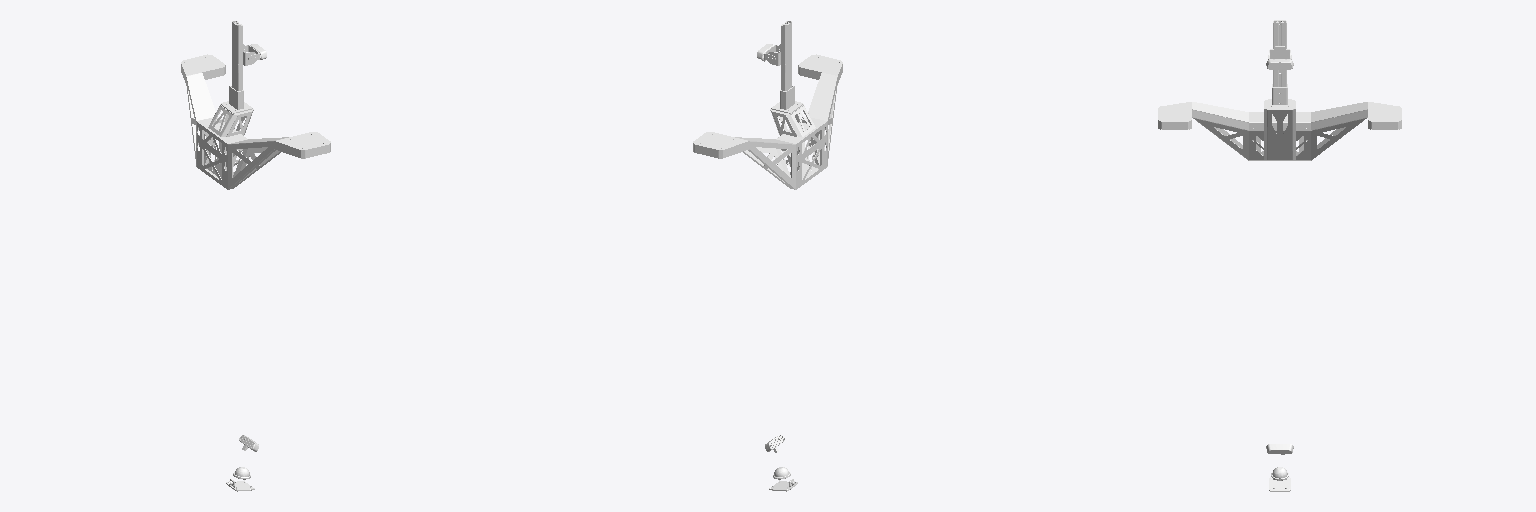
robot.urdf — split_aloha_mid_360:
<?xml version="1.0" encoding="utf-8"?>
<!-- This URDF was automatically created by SolidWorks to URDF Exporter! Originally created by [author] ([email redacted]) 
     Commit Version: 1.6.0-4-g7f85cfe  Build Version: 1.6.7995.38578
     For more information, please see http://wiki.ros.org/sw_urdf_exporter -->
<robot
  name="split_aloha_mid_360">
  <link
    name="base_link">
    <inertial>
      <origin
        xyz="-0.0094101 -8.3424E-05 -0.10022"
        rpy="0 0 0" />
      <mass
        value="62.935" />
      <inertia
        ixx="0.93227"
        ixy="-3.7072E-06"
        ixz="3.995E-05"
        iyy="1.2983"
        iyz="-0.00014259"
        izz="2.016" />
    </inertial>
    <visual>
      <origin
        xyz="0 0 0"
        rpy="0 0 0" />
      <geometry>
        <mesh
          filename="package://split_aloha_mid_360/meshes/base_link.STL" />
      </geometry>
      <material
        name="">
        <color
          rgba="1 1 1 1" />
      </material>
    </visual>
    <collision>
      <origin
        xyz="0 0 0"
        rpy="0 0 0" />
      <geometry>
        <mesh
          filename="package://split_aloha_mid_360/meshes/base_link.STL" />
      </geometry>
    </collision>
  </link>
  <link
    name="box_link">
    <inertial>
      <origin
        xyz="0.10921 -0.0087718 0.52779"
        rpy="0 0 0" />
      <mass
        value="27.261" />
      <inertia
        ixx="1.8122"
        ixy="4.558E-05"
        ixz="0.014722"
        iyy="1.7779"
        iyz="-4.0693E-05"
        izz="0.28053" />
    </inertial>
    <visual>
      <origin
        xyz="0 0 0"
        rpy="0 0 0" />
      <geometry>
        <mesh
          filename="package://split_aloha_mid_360/meshes/box_link.STL" />
      </geometry>
      <material
        name="">
        <color
          rgba="1 1 1 1" />
      </material>
    </visual>
    <collision>
      <origin
        xyz="0 0 0"
        rpy="0 0 0" />
      <geometry>
        <mesh
          filename="package://split_aloha_mid_360/meshes/box_link.STL" />
      </geometry>
    </collision>
  </link>
  <joint
    name="box_joint"
    type="fixed">
    <origin
      xyz="0 0 0"
      rpy="0 0 0" />
    <parent
      link="base_link" />
    <child
      link="box_link" />
    <axis
      xyz="0 0 0" />
  </joint>
  <link
    name="front_camera_link">
    <inertial>
      <origin
        xyz="-0.011443 0.0003607 -0.0012124"
        rpy="0 0 0" />
      <mass
        value="0.020053" />
      <inertia
        ixx="1.1182E-05"
        ixy="2.589E-09"
        ixz="5.6552E-08"
        iyy="2.2729E-06"
        iyz="-6.7447E-07"
        izz="1.0081E-05" />
    </inertial>
    <visual>
      <origin
        xyz="0 0 0"
        rpy="0 0 0" />
      <geometry>
        <mesh
          filename="package://split_aloha_mid_360/meshes/front_camera_link.STL" />
      </geometry>
      <material
        name="">
        <color
          rgba="1 1 1 1" />
      </material>
    </visual>
    <collision>
      <origin
        xyz="0 0 0"
        rpy="0 0 0" />
      <geometry>
        <mesh
          filename="package://split_aloha_mid_360/meshes/front_camera_link.STL" />
      </geometry>
    </collision>
  </link>
  <joint
    name="front_camera_joint"
    type="fixed">
    <origin
      xyz="0.35679 0 0.15819"
      rpy="-0.11187 0.6606 -0.0051043" />
    <parent
      link="box_link" />
    <child
      link="front_camera_link" />
    <axis
      xyz="0 0 0" />
  </joint>
  <link
    name="lidar_link">
    <inertial>
      <origin
        xyz="-0.0022133 -0.00090659 0.025996"
        rpy="0 0 0" />
      <mass
        value="0.048617" />
      <inertia
        ixx="1.0358E-05"
        ixy="9.2377E-09"
        ixz="-2.6386E-07"
        iyy="1.0387E-05"
        iyz="-2.6377E-07"
        izz="1.7919E-05" />
    </inertial>
    <visual>
      <origin
        xyz="0 0 0"
        rpy="0 0 0" />
      <geometry>
        <mesh
          filename="package://split_aloha_mid_360/meshes/lidar_link.STL" />
      </geometry>
      <material
        name="">
        <color
          rgba="1 1 1 1" />
      </material>
    </visual>
    <collision>
      <origin
        xyz="0 0 0"
        rpy="0 0 0" />
      <geometry>
        <mesh
          filename="package://split_aloha_mid_360/meshes/lidar_link.STL" />
      </geometry>
    </collision>
  </link>
  <joint
    name="lidar_joint"
    type="fixed">
    <origin
      xyz="0.31755 0 0.036188"
      rpy="-0.035132 0.20001 -0.001242" />
    <parent
      link="box_link" />
    <child
      link="lidar_link" />
    <axis
      xyz="0 0 0" />
  </joint>
  <link
    name="lifting_link">
    <inertial>
      <origin
        xyz="0.071327 0.00032985 0.10599"
        rpy="0 0 0" />
      <mass
        value="0.47066" />
      <inertia
        ixx="0.010952"
        ixy="-5.2124E-06"
        ixz="-0.00046317"
        iyy="0.0018329"
        iyz="-4.6428E-06"
        izz="0.010201" />
    </inertial>
    <visual>
      <origin
        xyz="0 0 0"
        rpy="0 0 0" />
      <geometry>
        <mesh
          filename="package://split_aloha_mid_360/meshes/lifting_link.STL" />
      </geometry>
      <material
        name="">
        <color
          rgba="1 1 1 1" />
      </material>
    </visual>
    <collision>
      <origin
        xyz="0 0 0"
        rpy="0 0 0" />
      <geometry>
        <mesh
          filename="package://split_aloha_mid_360/meshes/lifting_link.STL" />
      </geometry>
    </collision>
  </link>
  <joint
    name="lifting_joint"
    type="prismatic">
    <origin
      xyz="0.22448 0 1.1147"
      rpy="0 0 0" />
    <parent
      link="box_link" />
    <child
      link="lifting_link" />
    <axis
      xyz="0 0 1" />
    <limit lower="-0.6" upper="0.0" effort="100" velocity="10.0"/>
      
  </joint>
  <link
    name="top_camera_link">
    <inertial>
      <origin
        xyz="-0.011443 2.4833E-05 -0.0012615"
        rpy="0 0 0" />
      <mass
        value="0.020053" />
      <inertia
        ixx="1.1181E-05"
        ixy="1.204E-07"
        ixz="4.9068E-08"
        iyy="2.2587E-06"
        iyz="5.7637E-07"
        izz="1.0097E-05" />
    </inertial>
    <visual>
      <origin
        xyz="0 0 0"
        rpy="0 0 0" />
      <geometry>
        <mesh
          filename="package://split_aloha_mid_360/meshes/top_camera_link.STL" />
      </geometry>
      <material
        name="">
        <color
          rgba="1 1 1 1" />
      </material>
    </visual>
    <collision>
      <origin
        xyz="0 0 0"
        rpy="0 0 0" />
      <geometry>
        <mesh
          filename="package://split_aloha_mid_360/meshes/top_camera_link.STL" />
      </geometry>
    </collision>
  </link>
  <joint
    name="top_camera_joint"
    type="fixed">
    <origin
      xyz="0.16194 0 0.29838"
      rpy="0.049713 0.00080758 -0.01623" />
    <parent
      link="lifting_link" />
    <child
      link="top_camera_link" />
    <axis
      xyz="0 0 0" />
  </joint>
</robot>

--- Render facts (derived) ---
Views: 3 orthographic renders of the robot side by side, from view 1: azimuth 30°, elevation 25°; view 2: azimuth 150°, elevation 25°; view 3: azimuth 270°, elevation 25°.
Model split_aloha_mid_360 with 6 links and 5 joints (1 prismatic, 4 fixed), rooted at base_link, posed all joints at 0.
Visible links, largest first — view 1: lifting_link; view 2: lifting_link; view 3: lifting_link.
Boxes of the visible links, x1,y1,x2,y2 form: lifting_link: (181,21,330,189); lifting_link: (693,21,842,189); lifting_link: (1158,20,1401,160).
Bounding box of the posed robot: 0.2 × 0.712 × 1.49 m (x, y, z).
4 mesh visuals loaded from 6 distinct referenced files (4 binary STL); not drawn: 2 (reference not matched to a file when rendering).